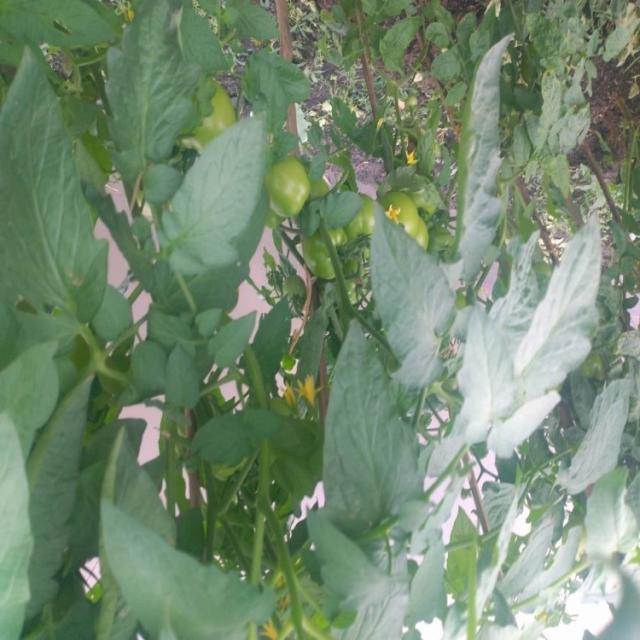tomato: (260, 152, 316, 223), (392, 194, 433, 255), (308, 229, 352, 280)
